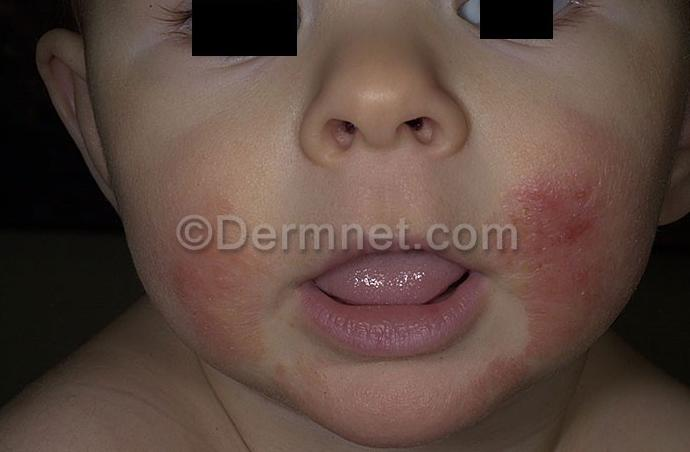Eritema 2: (516, 170, 597, 300)
eritema 1: (183, 229, 588, 447)
exudacion 1: (515, 200, 536, 220)
